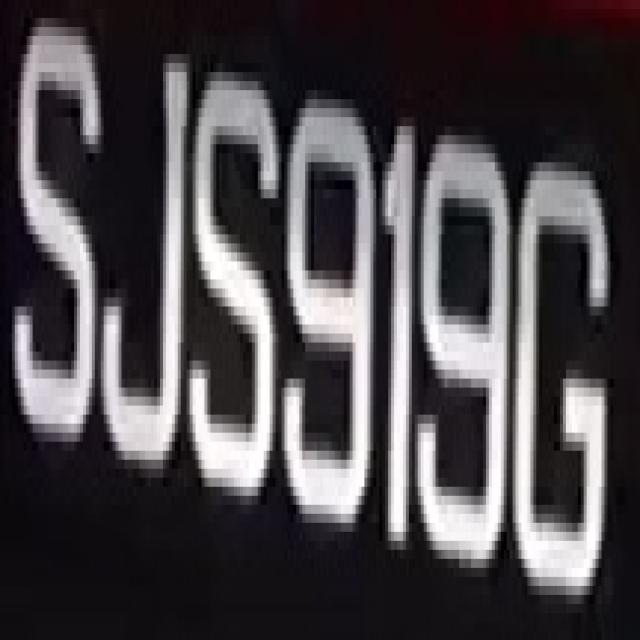1: (388, 54, 424, 550)
9: (282, 54, 374, 541), (424, 117, 516, 568)
G: (522, 126, 614, 613)
J: (106, 27, 196, 487)
S: (192, 63, 282, 532), (15, 36, 98, 469)
